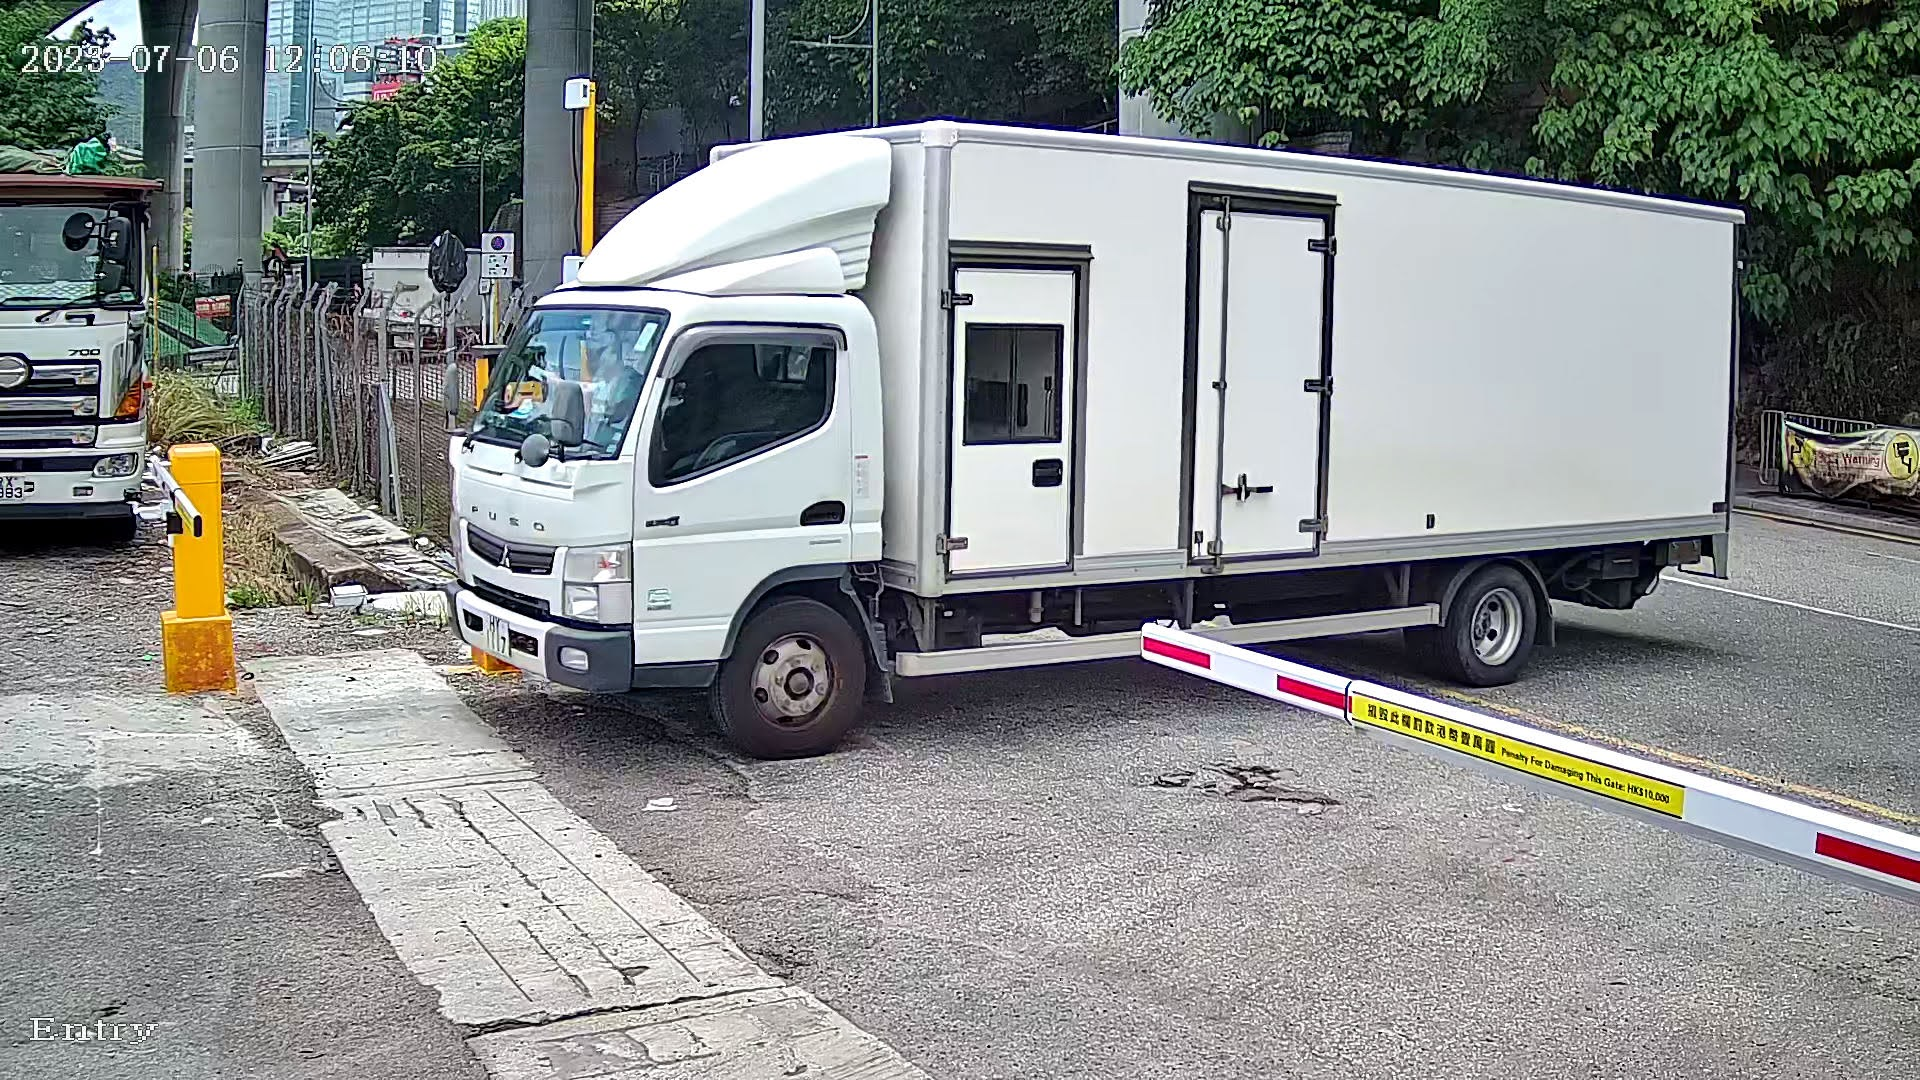truck_small: (404, 22, 1820, 777)
